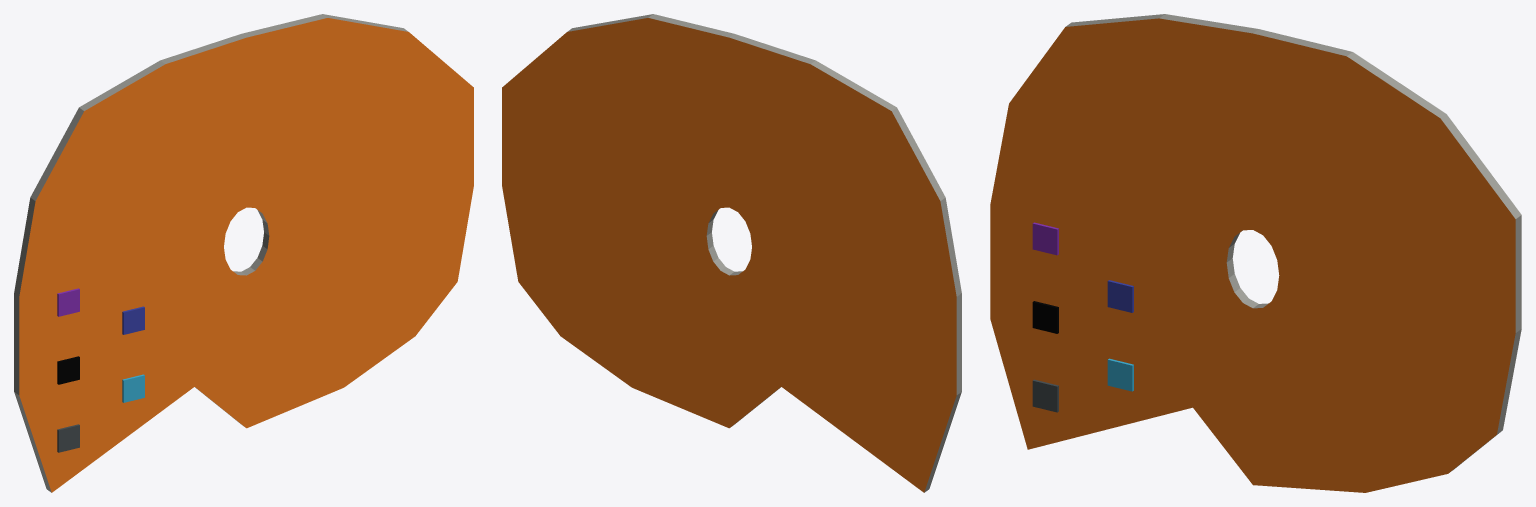
The model's file is item_palette5.obj.
3 views of the same model, side by side, from view 1: azimuth 30°, elevation 25°; view 2: azimuth 150°, elevation 25°; view 3: azimuth 330°, elevation 25° (orthographic). The views are drawn at different scales.
Parts seen in each view (by area): view 1: wooden_palette_with_open_thumb_hole_and_grip_notch, native_cumulative_paint_state; view 2: wooden_palette_with_open_thumb_hole_and_grip_notch; view 3: wooden_palette_with_open_thumb_hole_and_grip_notch, native_cumulative_paint_state.
Part boxes in pixels (x1=…): wooden_palette_with_open_thumb_hole_and_grip_notch: x1=14, y1=14, x2=473, y2=492; native_cumulative_paint_state: x1=57, y1=288, x2=144, y2=452; wooden_palette_with_open_thumb_hole_and_grip_notch: x1=502, y1=14, x2=961, y2=492; wooden_palette_with_open_thumb_hole_and_grip_notch: x1=990, y1=14, x2=1521, y2=492; native_cumulative_paint_state: x1=1032, y1=222, x2=1133, y2=412.
Size of the model in its own units: 0.875 by 0.75 by 0.0219.
